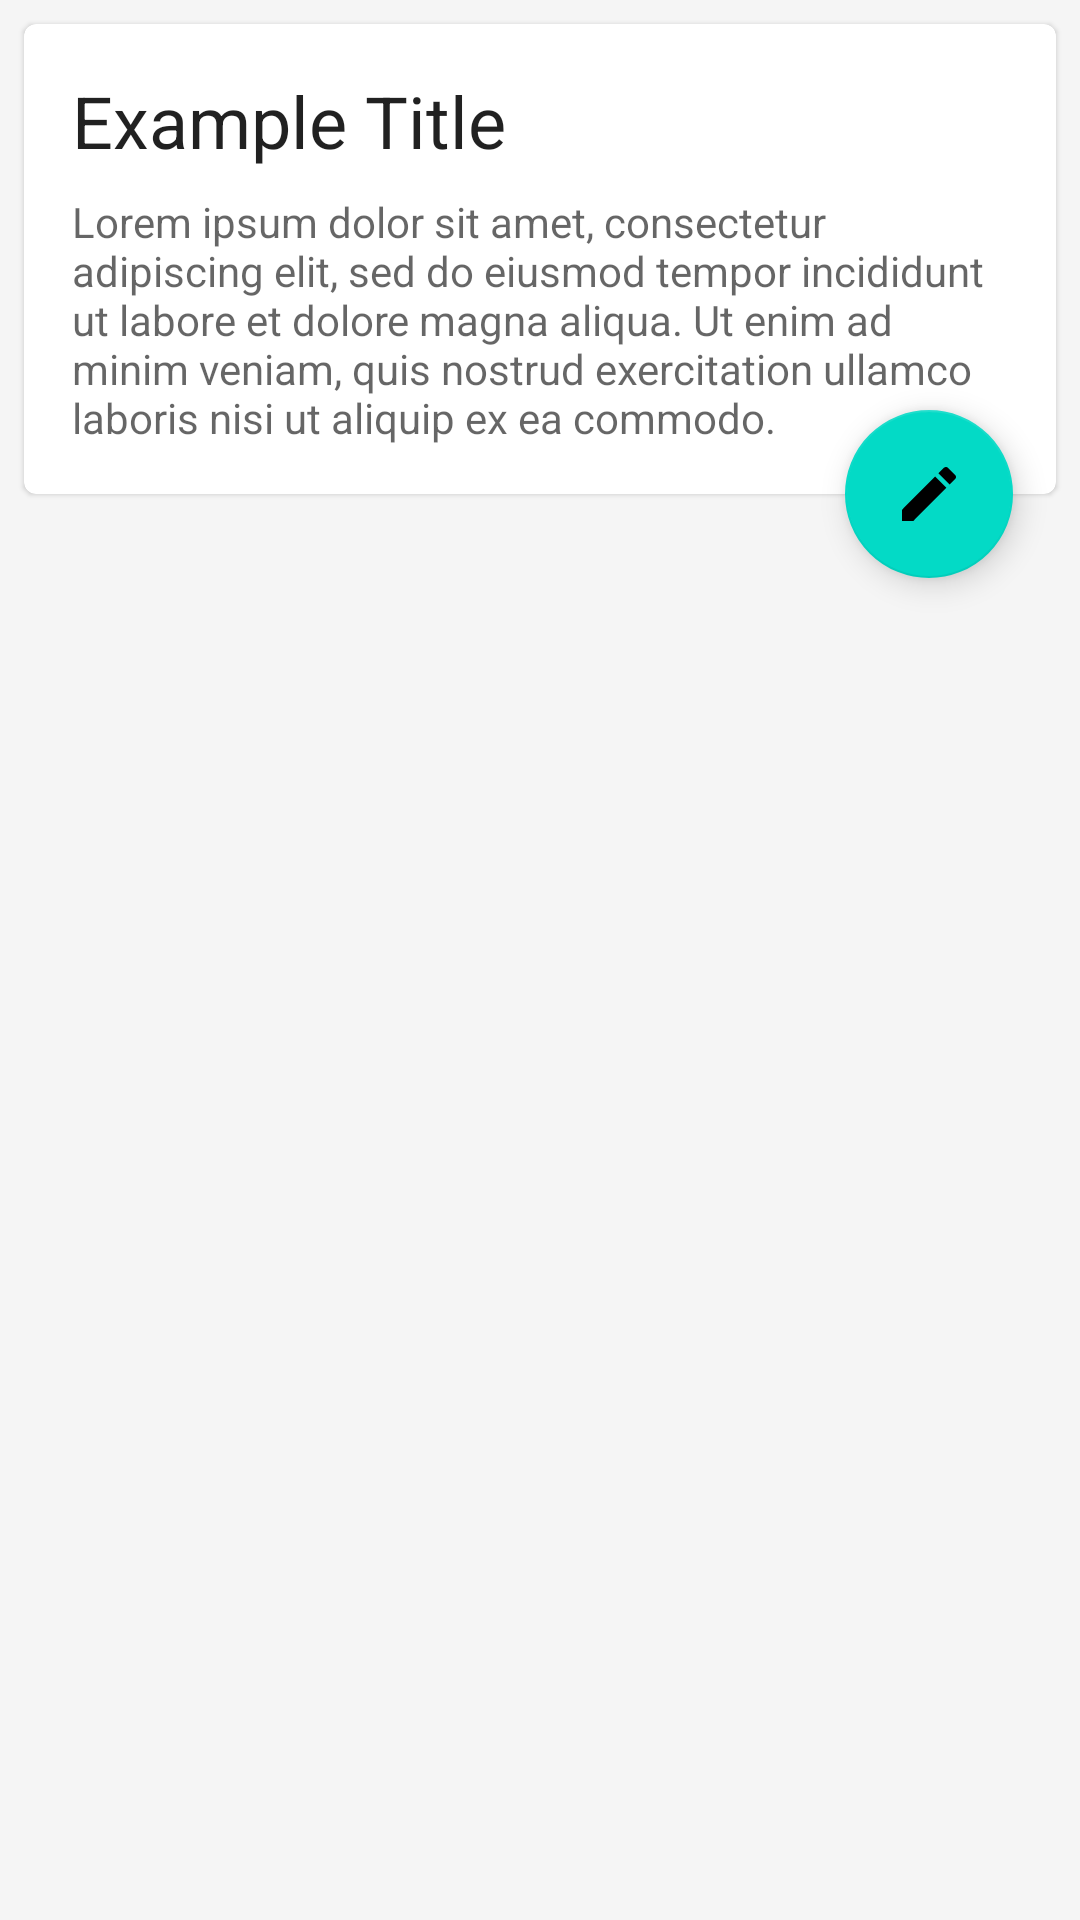

Named icons in this screenshot (1080px x 1920px) and their bounding boxes, box(x1, y1, x2, y2):
edit: box(845, 410, 1013, 578)
